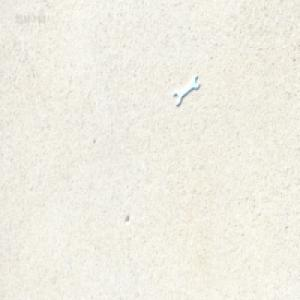Wrench: (173, 74, 199, 106)
